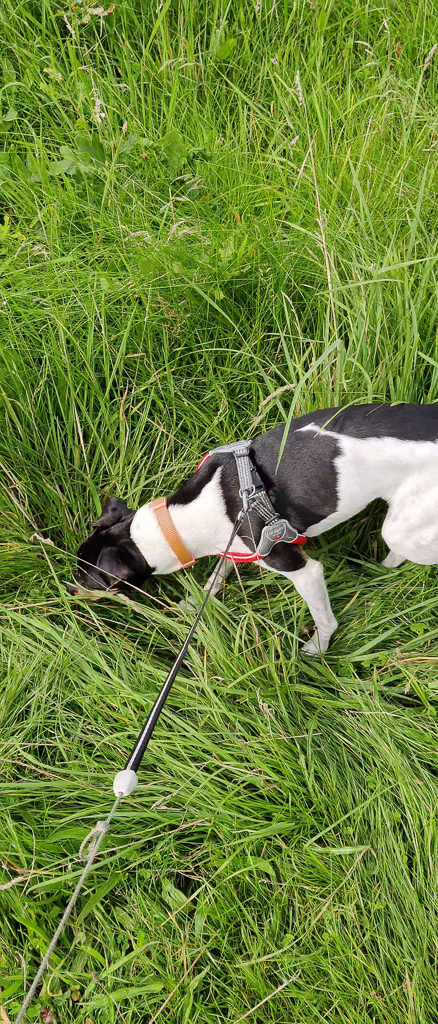Dog: (49, 382, 438, 673)
